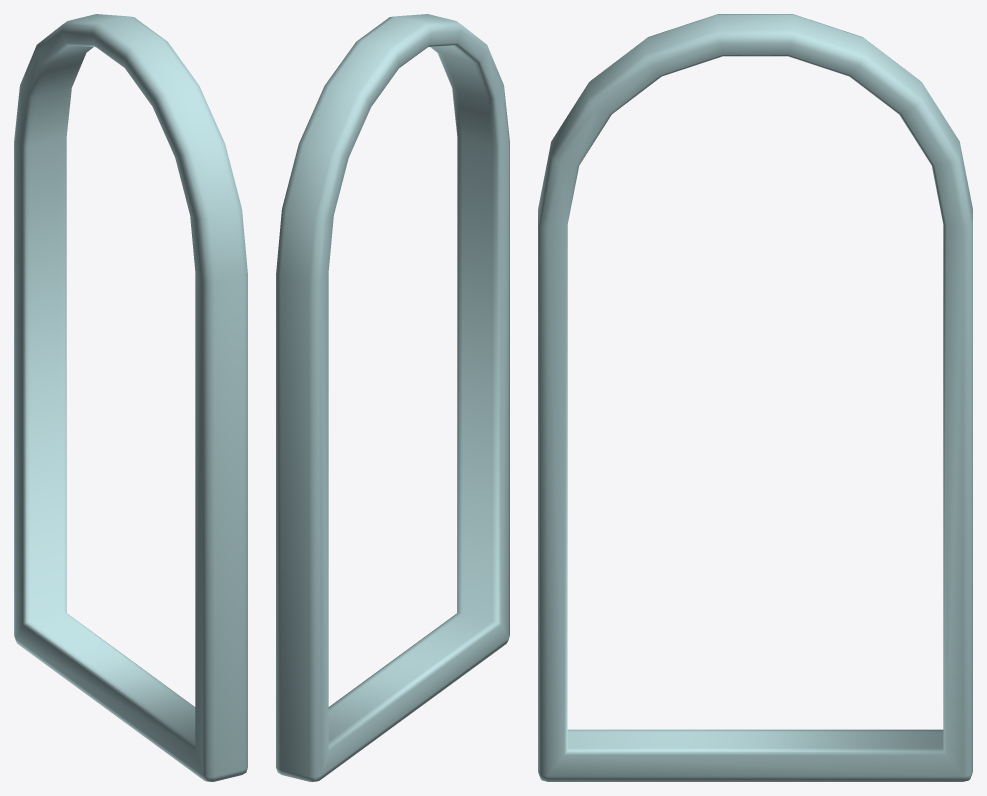
The model's file is DoorFrame_Model.fbx.
The picture shows the model from 3 angles, left to right: view 1: azimuth 30°, elevation 25°; view 2: azimuth 150°, elevation 25°; view 3: azimuth 270°, elevation 25°; orthographic projection. The views are drawn at different scales.
Parts seen in each view (by area): view 1: Cylinder001; view 2: Cylinder001; view 3: Cylinder001.
Part boxes in pixels (box(x1,y1,x2,y2)): Cylinder001: box(14, 14, 247, 781); Cylinder001: box(276, 14, 509, 781); Cylinder001: box(538, 14, 972, 781).
Size of the model in its own units: 2.51 by 37.2 by 19.53.
